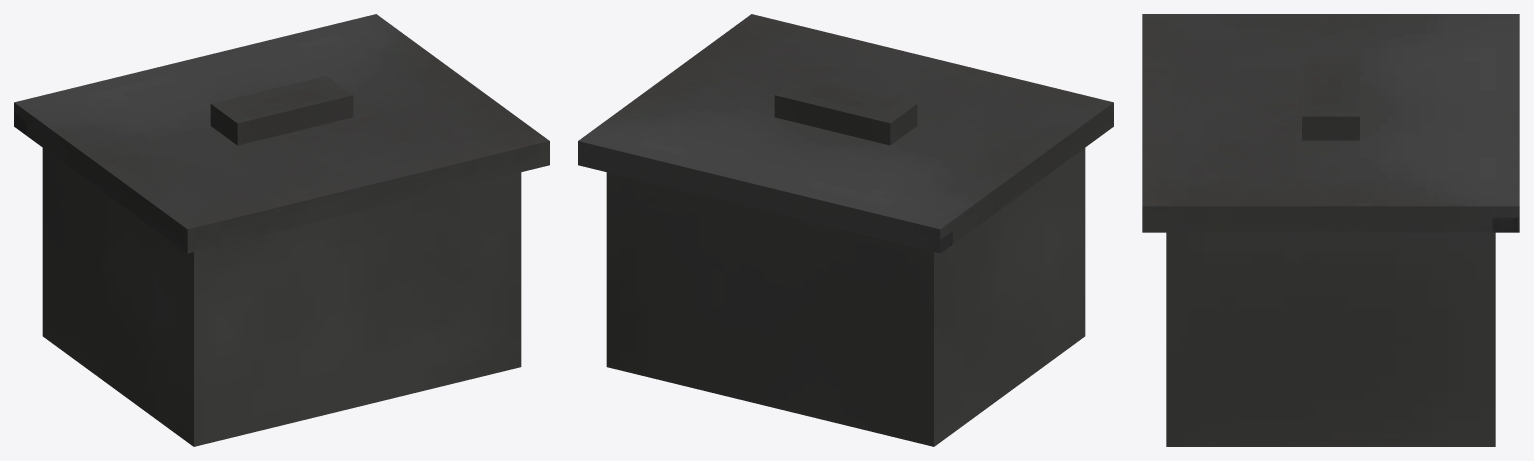
The model's file is filter_cartridge__cartridge.glb.
The picture shows the model from 3 angles, left to right: view 1: azimuth 30°, elevation 25°; view 2: azimuth 150°, elevation 25°; view 3: azimuth 270°, elevation 25°; orthographic projection. The views are drawn at different scales.
Visible parts, largest first — view 1: geometry_0; view 2: geometry_0; view 3: geometry_0.
Boxes of the visible parts, x1=… form: geometry_0: x1=14, y1=14, x2=549, y2=446; geometry_0: x1=578, y1=14, x2=1113, y2=446; geometry_0: x1=1142, y1=14, x2=1519, y2=446.
Bounding box in the file's own units: 0.188 × 0.125 × 0.156.
1 material, 1 textured.
